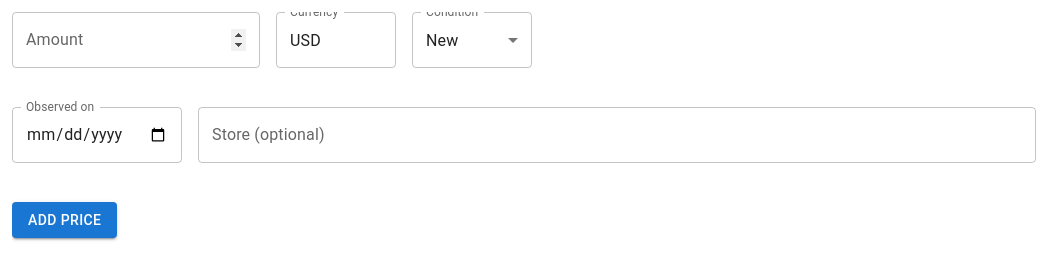
it: AddPriceSnapshotForm › rejects a non-positive amount
Type "0" into the number field labelled "Amount" at [136, 40], box [12,12,260,68]
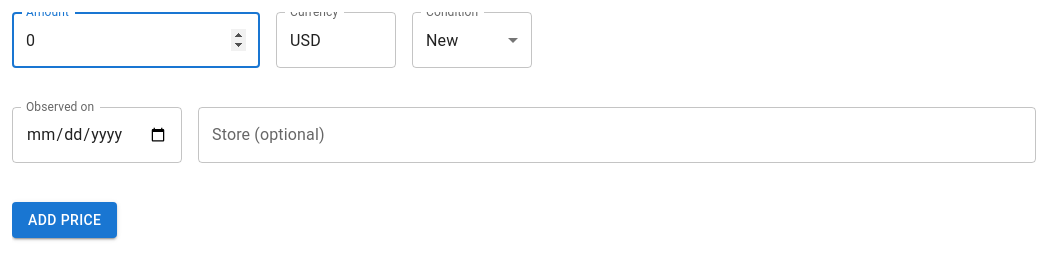
Type "2026-01-10" into the date field labelled "Observed on" at [97, 135], box [12,107,182,163]
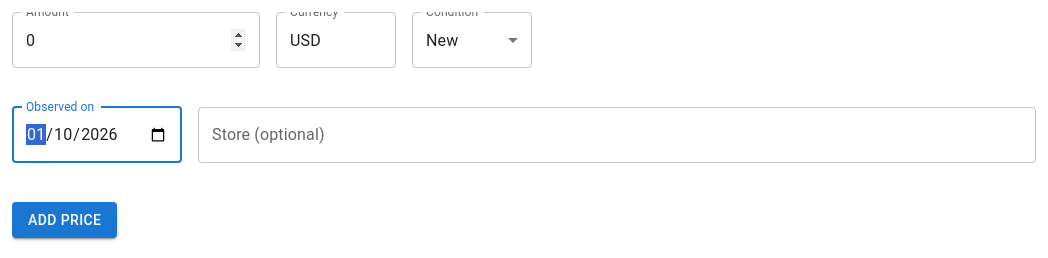
Click the button "Add price" at [65, 220], box [12,202,117,238]
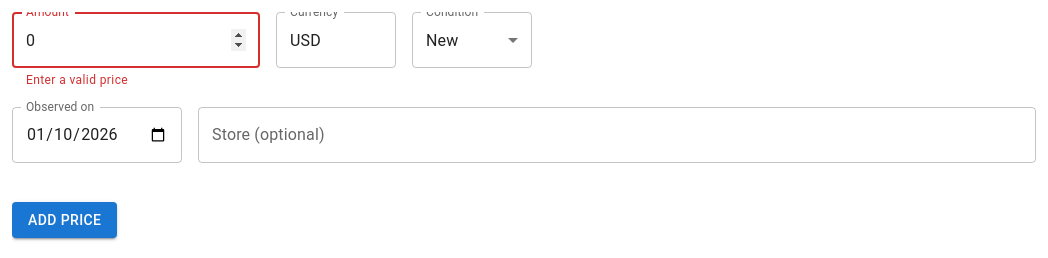
Expected: the text "Enter a valid price" is shown, [26,73,128,87]
